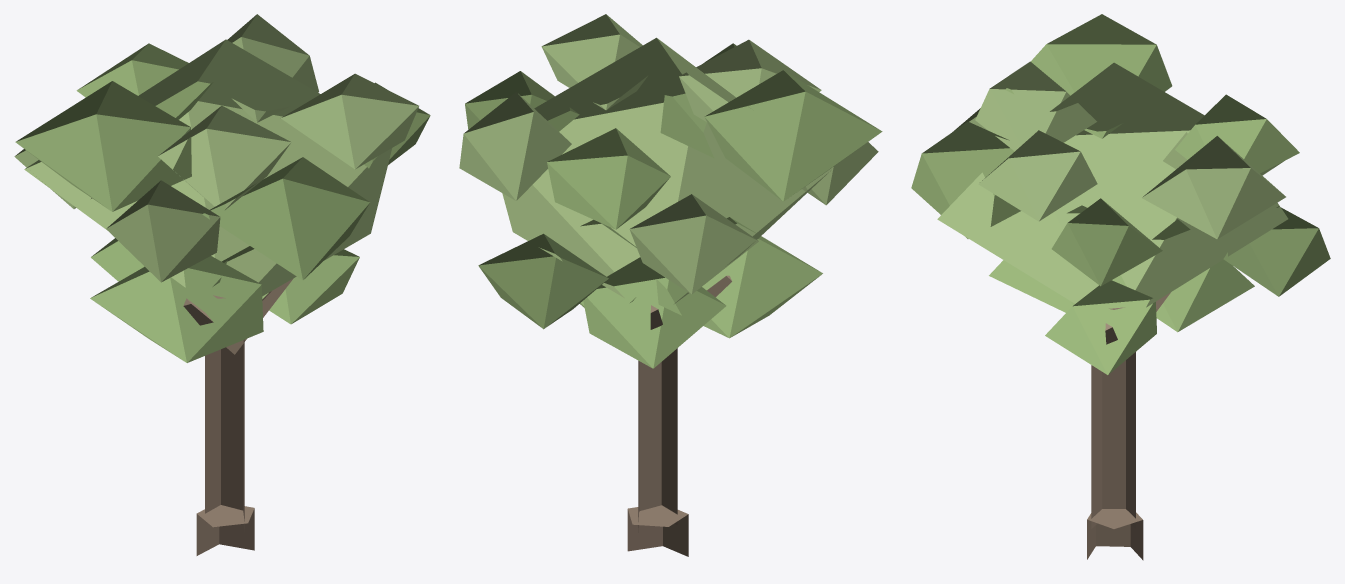
Rendered from tree.sub.camphor__spring.glb.
3 views of the same model, side by side, from view 1: azimuth 30°, elevation 25°; view 2: azimuth 150°, elevation 25°; view 3: azimuth 270°, elevation 25° (orthographic). The views are drawn at different scales.
Parts seen in each view (by area): view 1: tree.sub.camphor__spring; view 2: tree.sub.camphor__spring; view 3: tree.sub.camphor__spring.
Boxes of the visible parts, x1,y1,x2,y2 form: tree.sub.camphor__spring: (14,14,430,555); tree.sub.camphor__spring: (459,14,882,556); tree.sub.camphor__spring: (911,14,1330,560).
Bounding box in the file's own units: 13.65 × 17.47 × 13.44.
